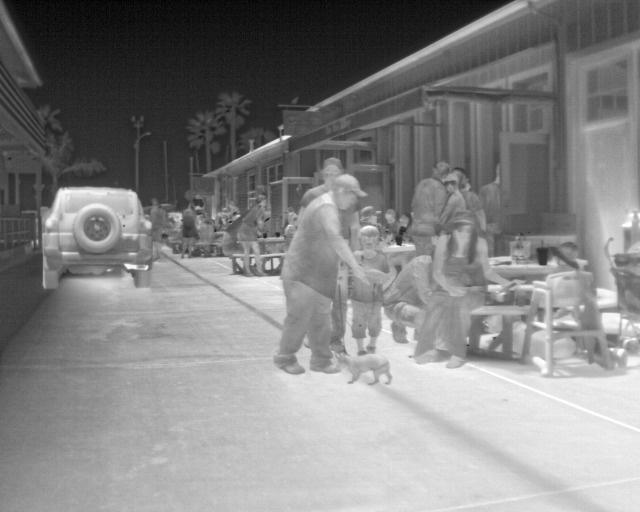bicycle: (40, 182, 154, 290)
empty: (274, 174, 359, 374), (415, 217, 521, 365), (349, 224, 384, 350), (411, 159, 449, 237), (239, 191, 271, 276), (300, 155, 344, 211), (477, 160, 500, 225), (440, 175, 470, 220), (178, 201, 200, 261), (148, 197, 167, 259), (380, 208, 397, 242), (196, 218, 214, 245)
